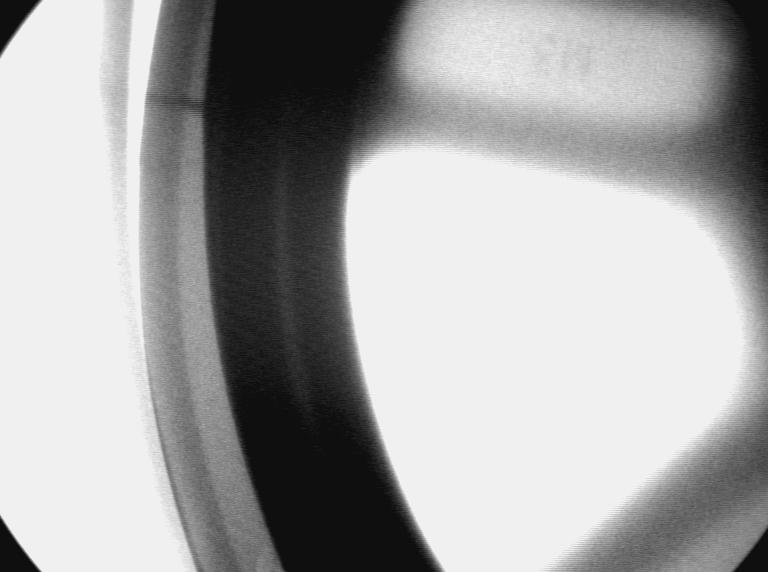defect: (250, 535, 284, 570)
